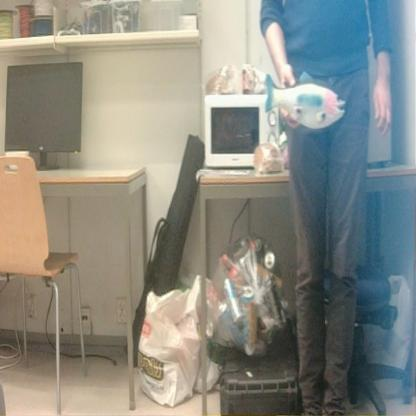rubberfish: (262, 65, 348, 137)
